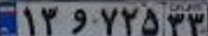character: (67, 5, 92, 36), (37, 4, 61, 36), (96, 3, 119, 36), (140, 6, 162, 36), (120, 2, 138, 35), (19, 5, 38, 36), (186, 12, 208, 36), (165, 11, 185, 36)
